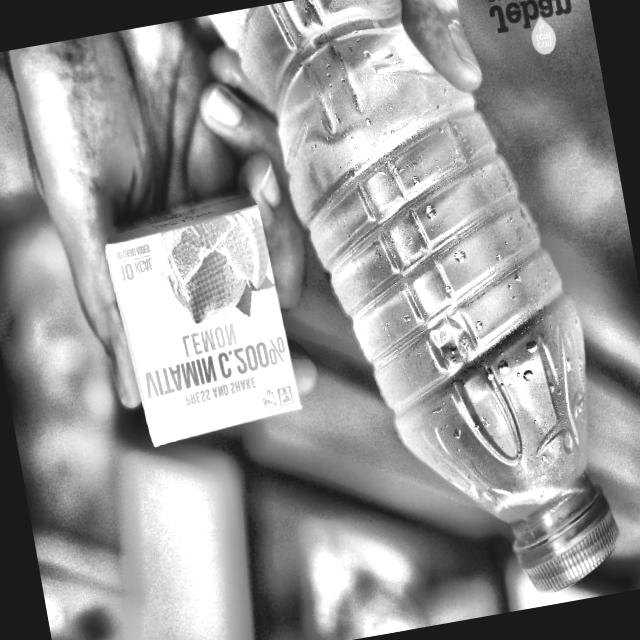waterbottle: (196, 0, 639, 640)
